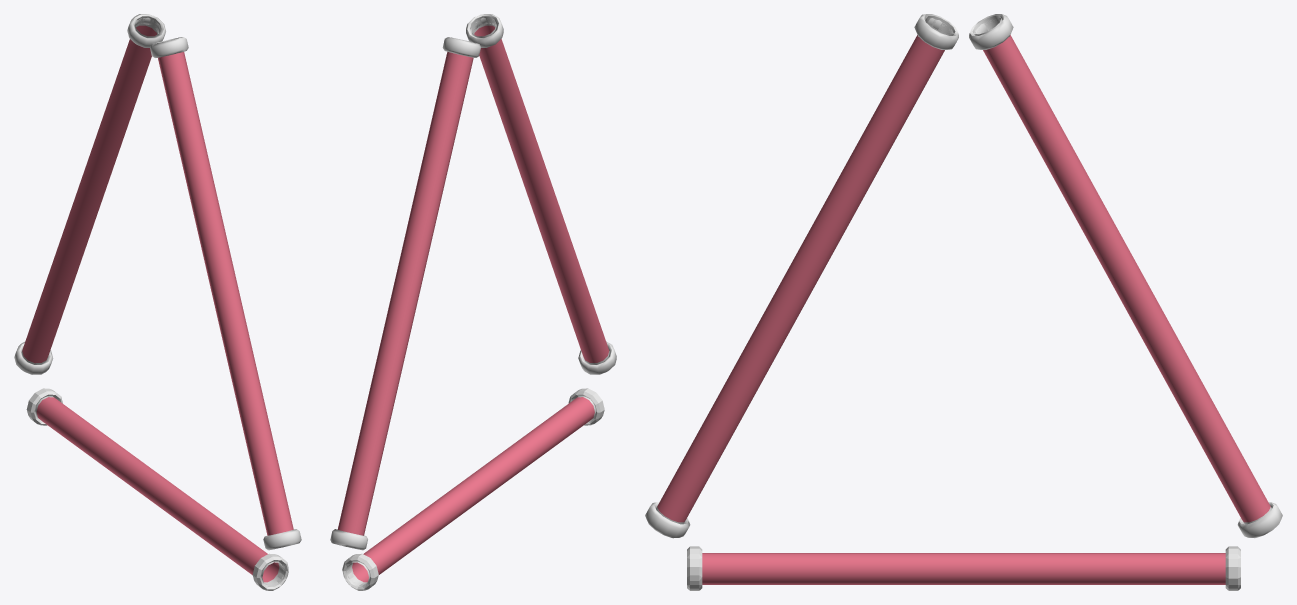
File: battle mode triangle.fbx
3 views of the same model, side by side, from view 1: azimuth 30°, elevation 25°; view 2: azimuth 150°, elevation 25°; view 3: azimuth 270°, elevation 25° (orthographic). The views are drawn at different scales.
Visible parts, largest first — view 1: Plane.003, Plane.002, Plane.001, Plane.005, Plane.006, Plane.004; view 2: Plane.002, Plane.003, Plane.001, Plane.004, Plane.006, Plane.005; view 3: Plane.002, Plane.003, Plane.001, Plane.004, Plane.005, Plane.006.
Part boxes in pixels (x1=…): Plane.003: x1=155, y1=37, x2=293, y2=535; Plane.002: x1=21, y1=16, x2=161, y2=364; Plane.001: x1=35, y1=396, x2=285, y2=586; Plane.005: x1=14, y1=14, x2=165, y2=374; Plane.006: x1=26, y1=388, x2=288, y2=590; Plane.004: x1=150, y1=37, x2=301, y2=550; Plane.002: x1=337, y1=37, x2=476, y2=535; Plane.003: x1=470, y1=16, x2=609, y2=364; Plane.001: x1=345, y1=396, x2=596, y2=586; Plane.004: x1=466, y1=14, x2=616, y2=374; Plane.006: x1=342, y1=388, x2=604, y2=590; Plane.005: x1=330, y1=37, x2=480, y2=550; Plane.002: x1=972, y1=16, x2=1271, y2=524; Plane.003: x1=656, y1=16, x2=955, y2=524; Plane.001: x1=702, y1=553, x2=1225, y2=584; Plane.004: x1=645, y1=14, x2=958, y2=538; Plane.005: x1=969, y1=14, x2=1282, y2=538; Plane.006: x1=687, y1=546, x2=1240, y2=590.
Bounding box in the file's own units: 14 × 195 × 197.
